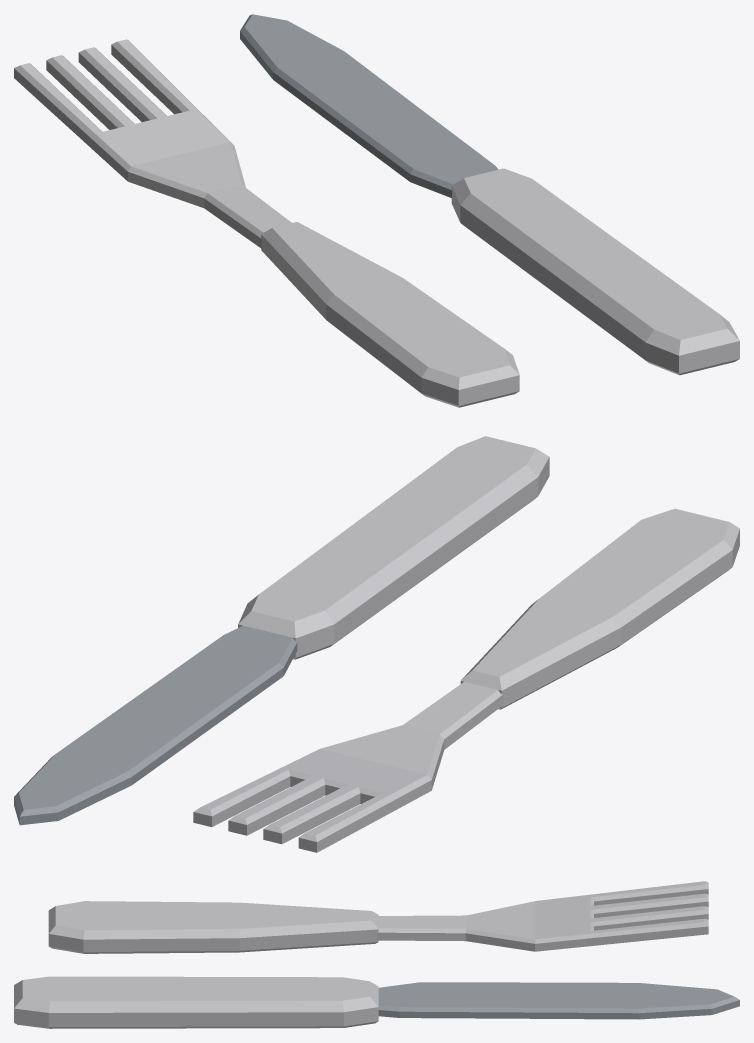
Rendered from cutlery_silver.glb.
The picture shows the model from 3 angles, top to bottom: view 1: azimuth 30°, elevation 25°; view 2: azimuth 150°, elevation 25°; view 3: azimuth 270°, elevation 25°; orthographic projection. The views are drawn at different scales.
Parts seen in each view (by area): view 1: cutlery_silver; view 2: cutlery_silver; view 3: cutlery_silver.
Part boxes in pixels (bbox=[...]): cutlery_silver: bbox=[14, 14, 739, 407]; cutlery_silver: bbox=[14, 436, 739, 852]; cutlery_silver: bbox=[14, 881, 739, 1028].
Bounding box in the file's own units: 0.078 × 0.0115 × 0.209.
1 material, 1 textured.
